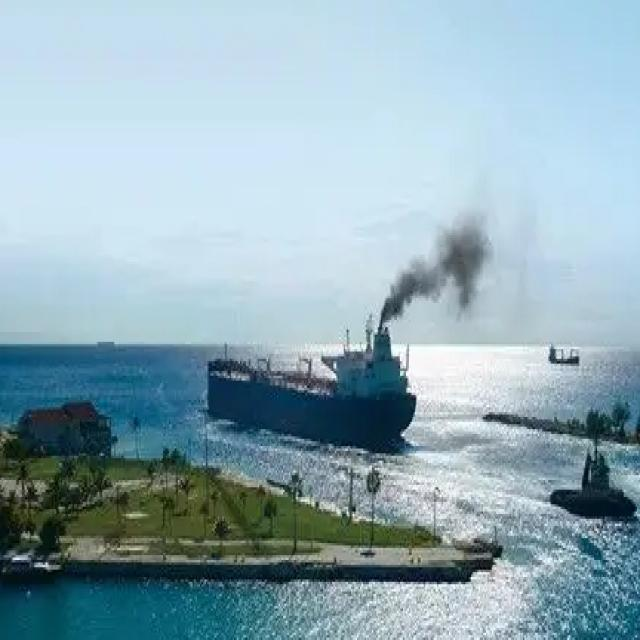cargoship: (198, 322, 429, 450)
